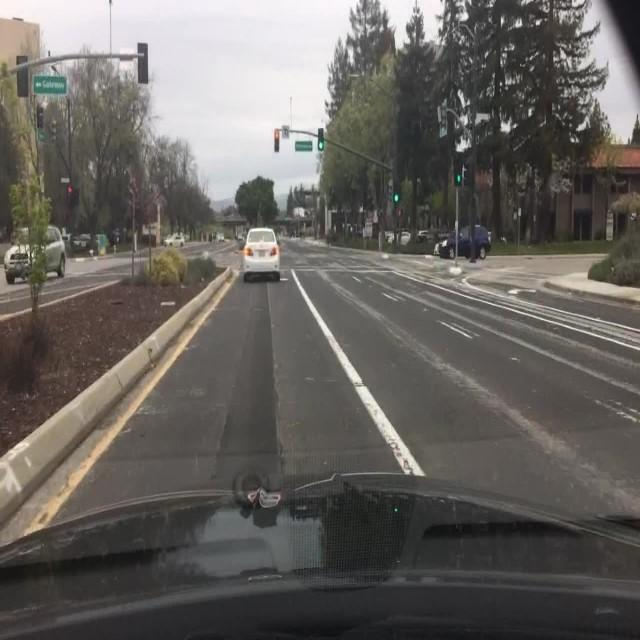normal: (2, 234, 65, 285), (243, 228, 283, 283), (436, 224, 494, 257)
